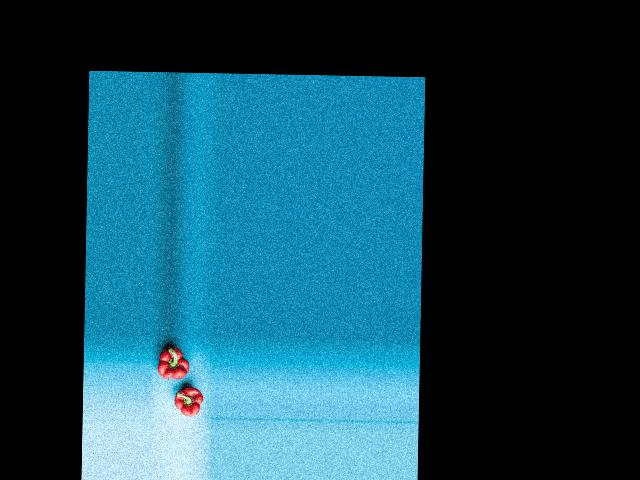bell_pepper: (157, 343, 193, 386)
